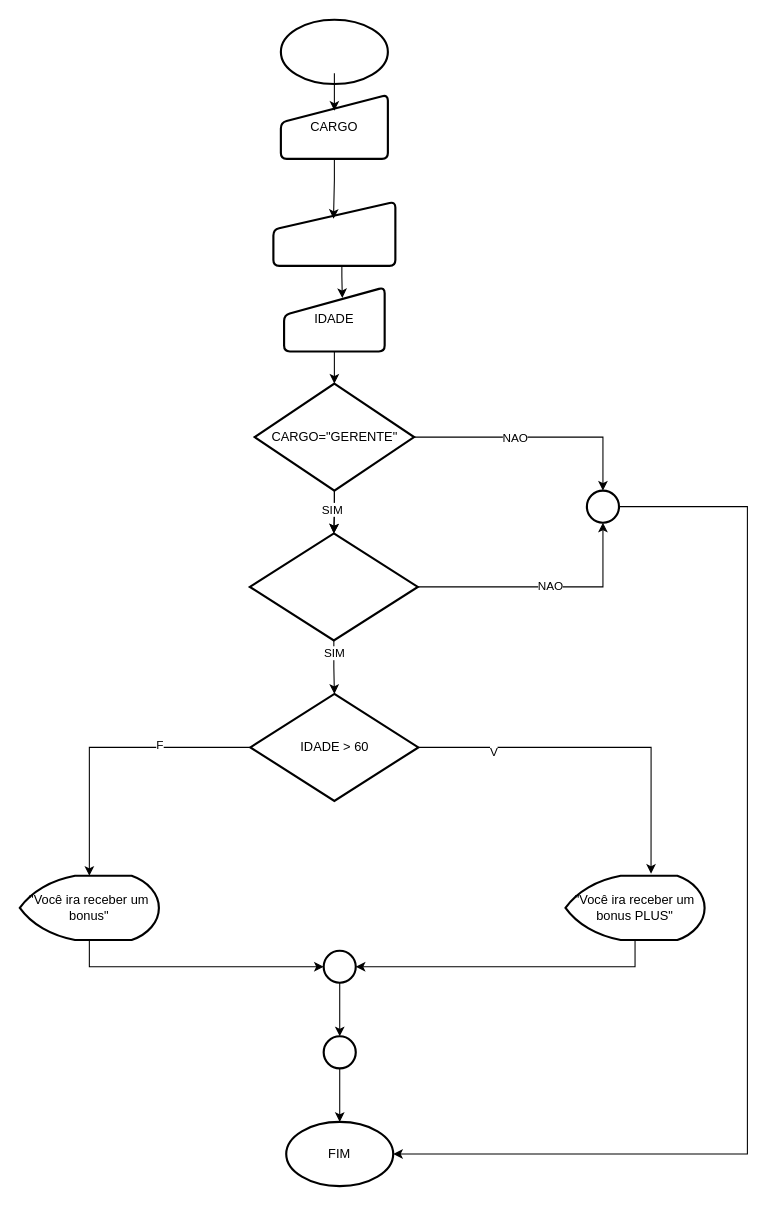
This 775x1205 diagram has some shape labels left out. Here are the shapes that lost their labels. From the top down, the centre of each, then its label:
point (333, 51): INICIO
point (334, 233): DEPARTAMENTO
point (333, 586): DEPARTAMENTO = "TIC"
